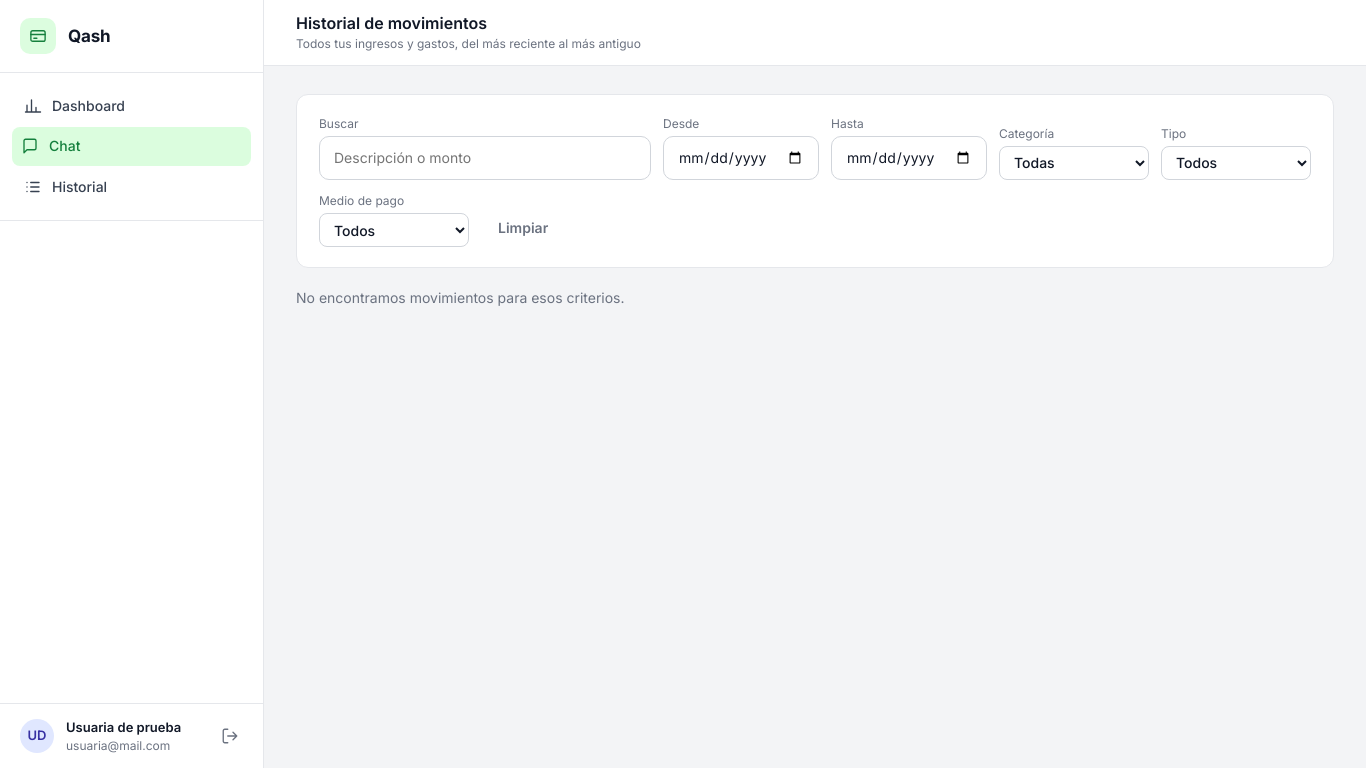
Test case: Historial › hu07_ca3 busca por texto
Expected: the text "No encontramos movimientos para esos criterios." is shown, [296, 289, 624, 306]
Type "gimnasio" into the field with placeholder "Descripción o monto" at point(485, 158), box [319, 136, 651, 180]
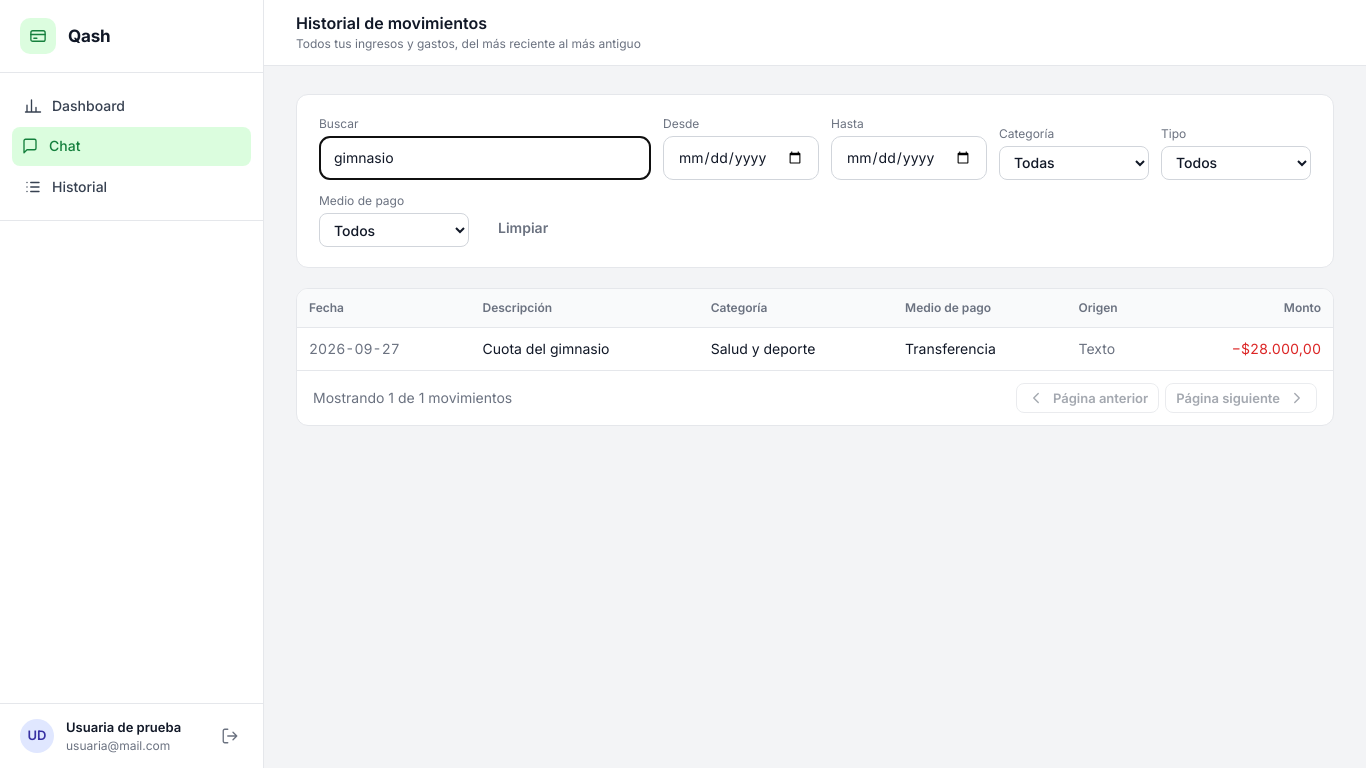
Now the text "Cuota del gimnasio" is shown, box [470, 327, 699, 370]
